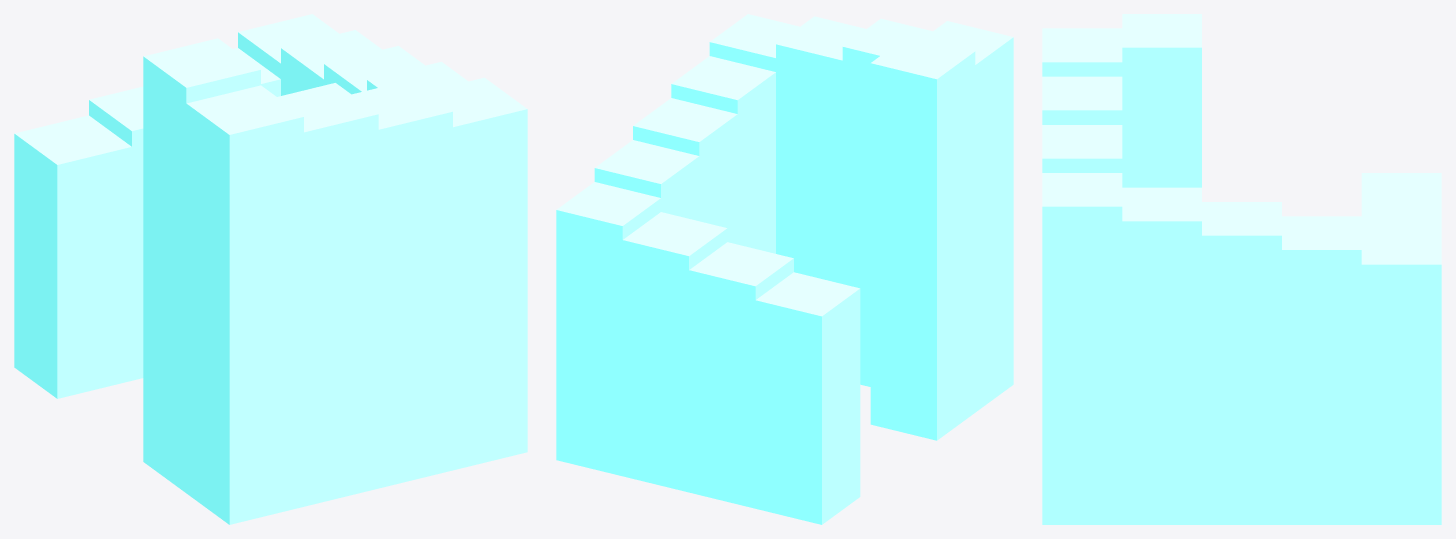
3 views of the same model, side by side, from view 1: azimuth 30°, elevation 25°; view 2: azimuth 150°, elevation 25°; view 3: azimuth 270°, elevation 25° (orthographic). The views are drawn at different scales.
Visible parts, largest first — view 1: Box (×11); view 2: Box (×12); view 3: Box (×12).
Part boxes in pixels (<box>): Box (×11): <box>14,14,527,524</box>; Box (×12): <box>556,14,1013,524</box>; Box (×12): <box>1042,14,1441,524</box>.
Size of the model in its own units: 4 by 5.2 by 5.
